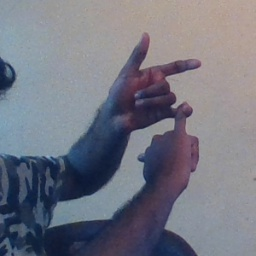S: (110, 25, 212, 191)
